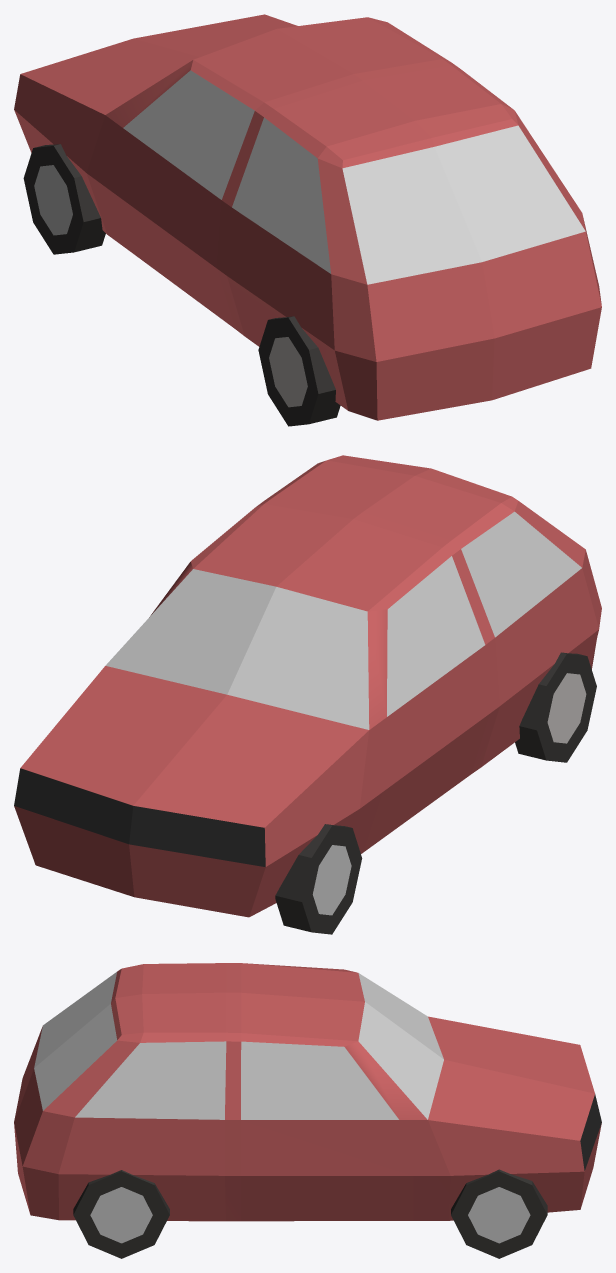
Rendered from car.glb.
3 renders of one model, top to bottom at view 1: azimuth 30°, elevation 25°; view 2: azimuth 150°, elevation 25°; view 3: azimuth 270°, elevation 25°, orthographic. The views are drawn at different scales.
Visible parts, largest first — view 1: Body, Wheel_RL, Wheel_FL; view 2: Body, Wheel_FL, Wheel_RL; view 3: Body, Wheel_FR, Wheel_RR.
Boxes of the visible parts, x1,y1,x2,y2 form: Body: (14,14,601,420); Wheel_RL: (258,316,340,426); Wheel_FL: (23,144,105,254); Body: (14,455,601,917); Wheel_FL: (275,824,362,934); Wheel_RL: (515,652,596,762); Body: (14,963,601,1221); Wheel_FR: (451,1169,547,1258); Wheel_RR: (73,1170,169,1258).
Bounding box in the file's own units: 1.51 × 1.38 × 3.47.
